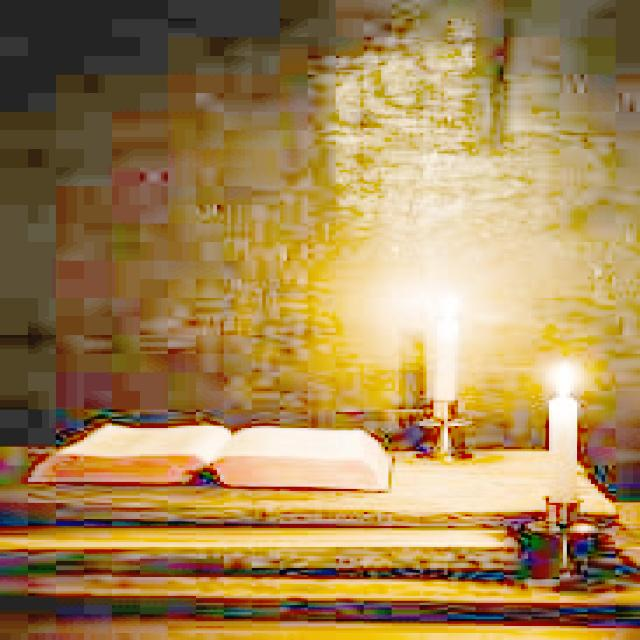api: (547, 357, 585, 397), (424, 290, 466, 322)
